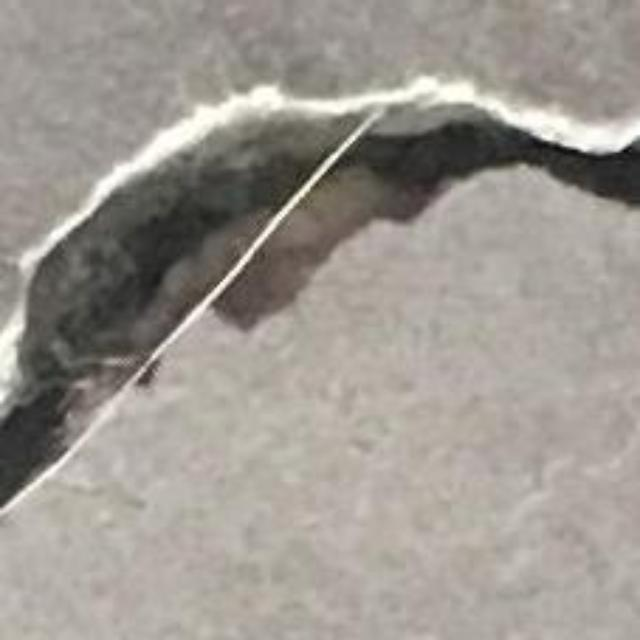crack: (0, 78, 639, 512)
